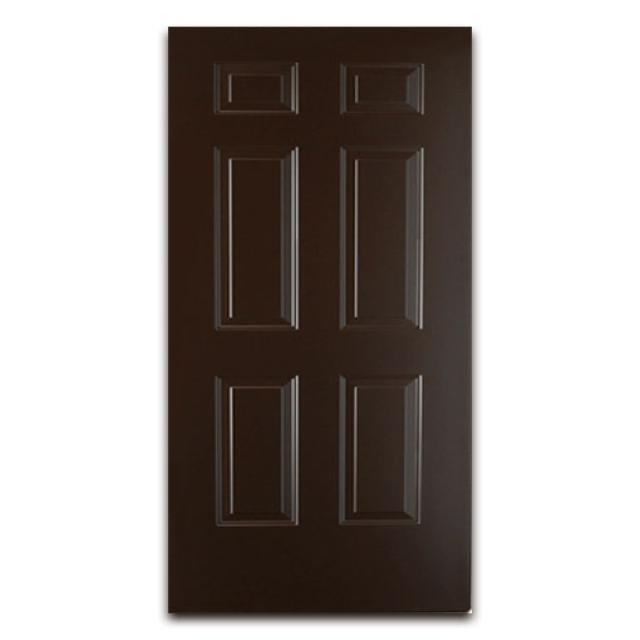door: (166, 27, 474, 616)
